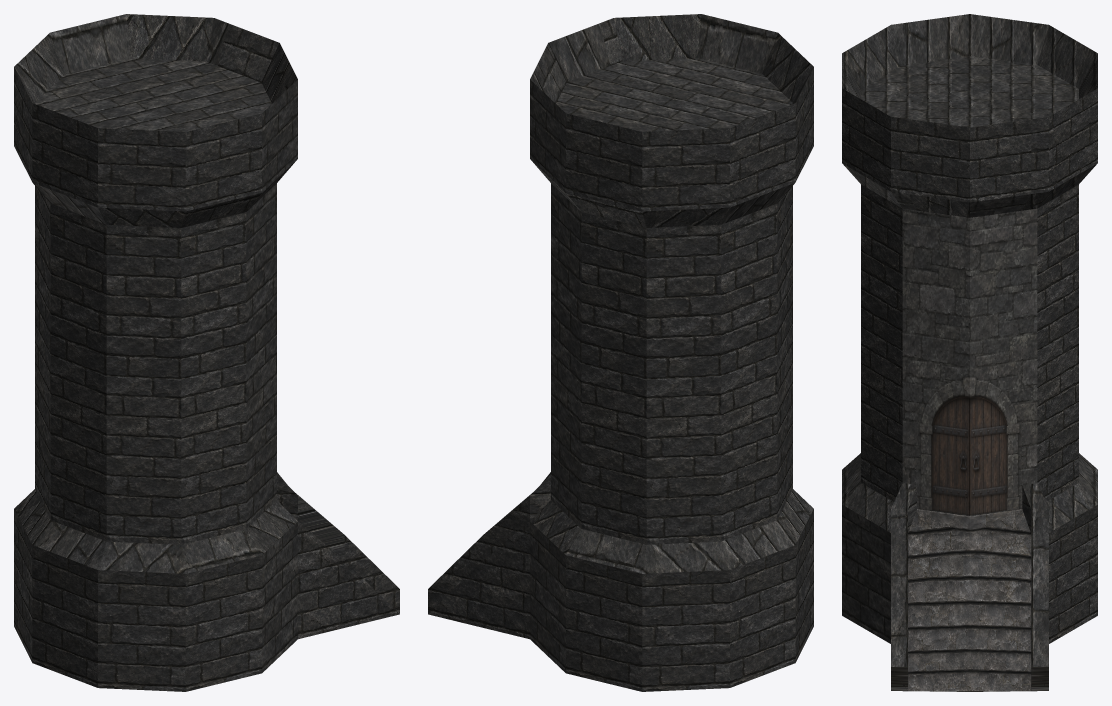
File: Stone_Tower_Local.glb
3 renders of one model, left to right at view 1: azimuth 30°, elevation 25°; view 2: azimuth 150°, elevation 25°; view 3: azimuth 270°, elevation 25°, orthographic. The views are drawn at different scales.
Visible parts, largest first — view 1: Tower; view 2: Tower; view 3: Tower.
Boxes of the visible parts, <box> form: Tower: <box>14,14,399,691</box>; Tower: <box>428,14,813,691</box>; Tower: <box>842,14,1097,691</box>.
Size of the model in its own units: 12.86 by 21.01 by 9.23.
Materials: 3 (3 with a texture image).
